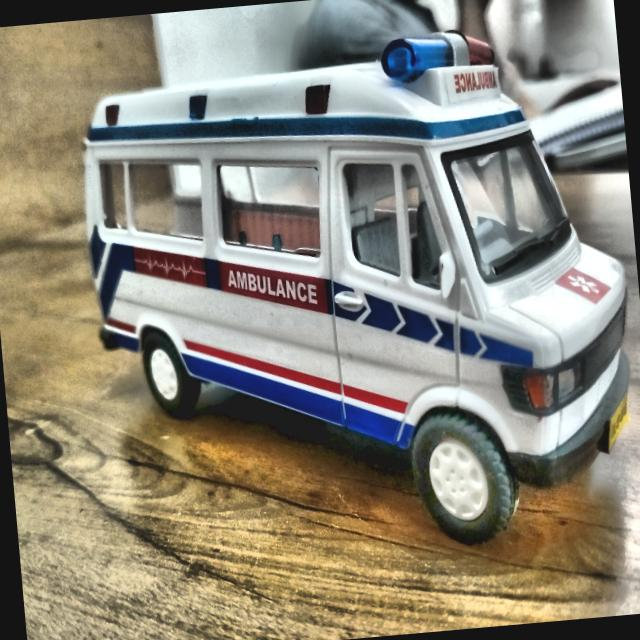Ambulance: (64, 13, 640, 569)
